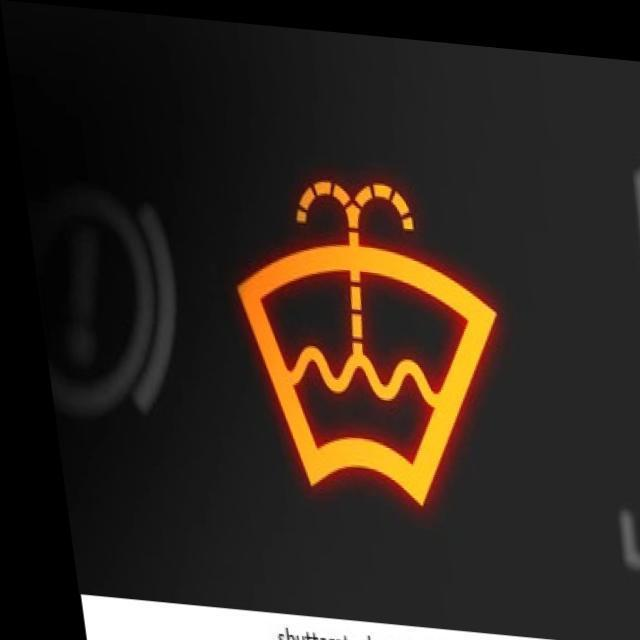Washer Fluid: (237, 177, 498, 505)
